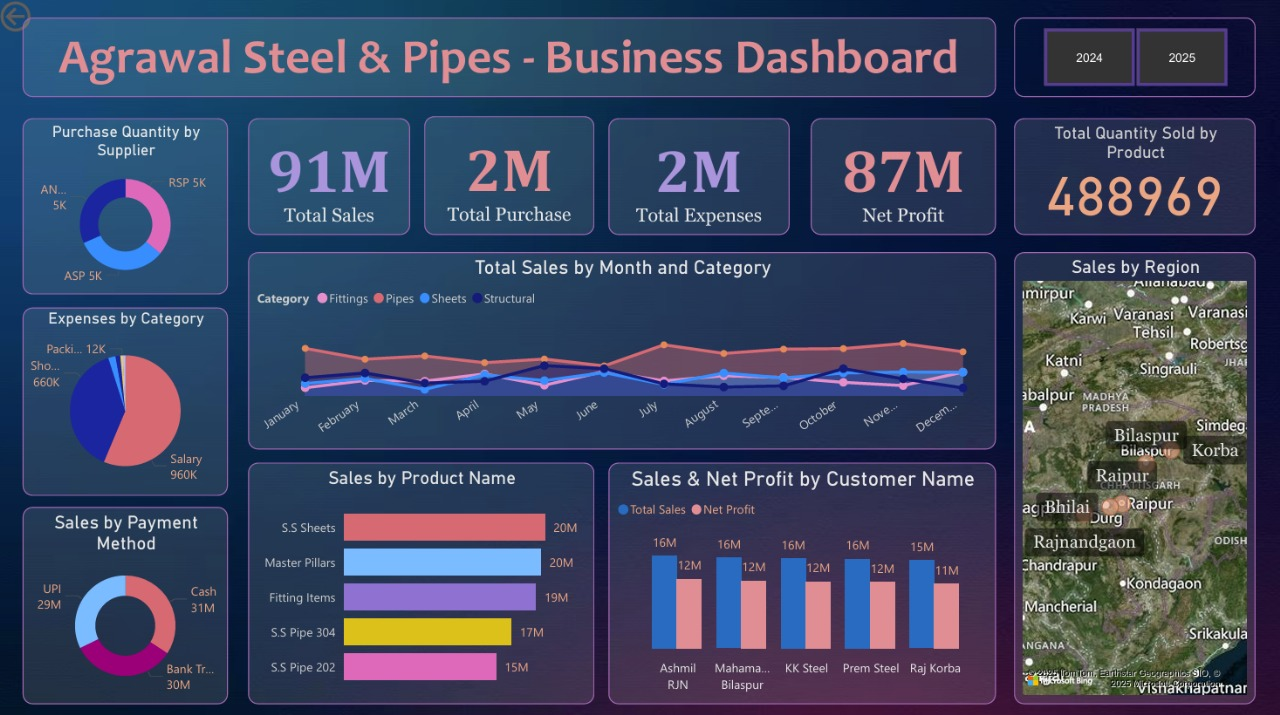

The dashboard page shown, as its layout file describes it:
{"tool":"powerbi","page":{"name":"ASP Dashboard","canvas":[1280,720],"ordinal":0},"visuals":[{"type":"card","fields":{"Values":["Expenses.Total Expenses"]},"box":[609.2,120.9,179.7,116.1],"z":0},{"type":"card","fields":{"Values":["DateTable.Net Profit"]},"box":[809.6,120.9,184.5,116.1],"z":1000},{"type":"card","fields":{"Values":["Purchases.Total Purchase"]},"box":[426.3,119.3,168.6,117.7],"z":2000},{"type":"card","fields":{"Values":["Sales Data.Total Sales"]},"box":[251.3,120.9,160.7,116.1],"z":3000},{"type":"actionButton","box":[0,0,100,40],"z":4000},{"type":"map","title":"Sales by Region","fields":{"Category":["Sales Data.Region"],"Size":["Sales Data.Total Sales"]},"box":[1011.6,254.5,240.2,448.6],"z":5000},{"type":"barChart","title":"Sales by Product Name","fields":{"Category":["Sales Data.Product Name"],"Y":["Sales Data.Total Sales"]},"box":[251.3,462.9,343.6,240.2],"z":6000},{"type":"clusteredColumnChart","title":" Sales & Net Profit by Customer Name","fields":{"Category":["Sales Data.Customer Name"],"Y":["Sales Data.Total Sales","DateTable.Net Profit"]},"box":[609.2,462.9,384.9,240.2],"z":7000},{"type":"textbox","box":[27,20.7,967.1,79.5],"z":8000},{"type":"slicer","fields":{"Values":["DateTable.Year"]},"box":[1011.6,20.7,240.2,79.5],"z":9000},{"type":"donutChart","title":"Purchase Quantity by Supplier","fields":{"Category":["Purchases.Supplier"],"Y":["Purchases.Total Purchase Quantity"]},"box":[27,120.9,203.6,175],"z":10000},{"type":"kpi","fields":{"Indicator":["Sales Data.Total Quantity Sold"],"TrendLine":["Purchases.Product"]},"box":[1011.6,120.9,240.2,116.1],"z":11000},{"type":"lineChart","fields":{"Series":["Sales Data.Category"],"Category":["DateTable.Date.Variation.Date Hierarchy.Month"],"Y":["Sales Data.Total Sales"]},"box":[251.3,254.5,742.8,195.6],"z":12000},{"type":"donutChart","title":" Sales by Payment Method","fields":{"Category":["Sales Data.Payment Method"],"Y":["Sales Data.Total Sales"]},"box":[27,507.4,203.6,195.6],"z":13000},{"type":"pieChart","title":" Expenses by  Category","fields":{"Category":["Expenses.Expense Category"],"Y":["Expenses.Total Expenses"]},"box":[27,308.6,203.6,187.7],"z":14000}]}

Visuals, with their boxes in screenshot pixels (x1, y1, x2, y2), scaled from the page's 1280x720 canvas onto the 1280x715 screenshot:
card - Expenses.Total Expenses: {"left": 609, "top": 120, "right": 789, "bottom": 235}
card - DateTable.Net Profit: {"left": 810, "top": 120, "right": 994, "bottom": 235}
card - Purchases.Total Purchase: {"left": 426, "top": 118, "right": 595, "bottom": 235}
card - Sales Data.Total Sales: {"left": 251, "top": 120, "right": 412, "bottom": 235}
actionButton: {"left": 0, "top": 0, "right": 100, "bottom": 40}
"Sales by Region" map: {"left": 1012, "top": 253, "right": 1252, "bottom": 698}
"Sales by Product Name" barChart: {"left": 251, "top": 460, "right": 595, "bottom": 698}
" Sales & Net Profit by Customer Name" clusteredColumnChart: {"left": 609, "top": 460, "right": 994, "bottom": 698}
textbox: {"left": 27, "top": 21, "right": 994, "bottom": 100}
slicer - DateTable.Year: {"left": 1012, "top": 21, "right": 1252, "bottom": 100}
"Purchase Quantity by Supplier" donutChart: {"left": 27, "top": 120, "right": 231, "bottom": 294}
kpi - Sales Data.Total Quantity Sold x Purchases.Product: {"left": 1012, "top": 120, "right": 1252, "bottom": 235}
lineChart - Sales Data.Category x DateTable.Date.Variation.Date Hierarchy.Month: {"left": 251, "top": 253, "right": 994, "bottom": 447}
" Sales by Payment Method" donutChart: {"left": 27, "top": 504, "right": 231, "bottom": 698}
" Expenses by  Category" pieChart: {"left": 27, "top": 306, "right": 231, "bottom": 493}
